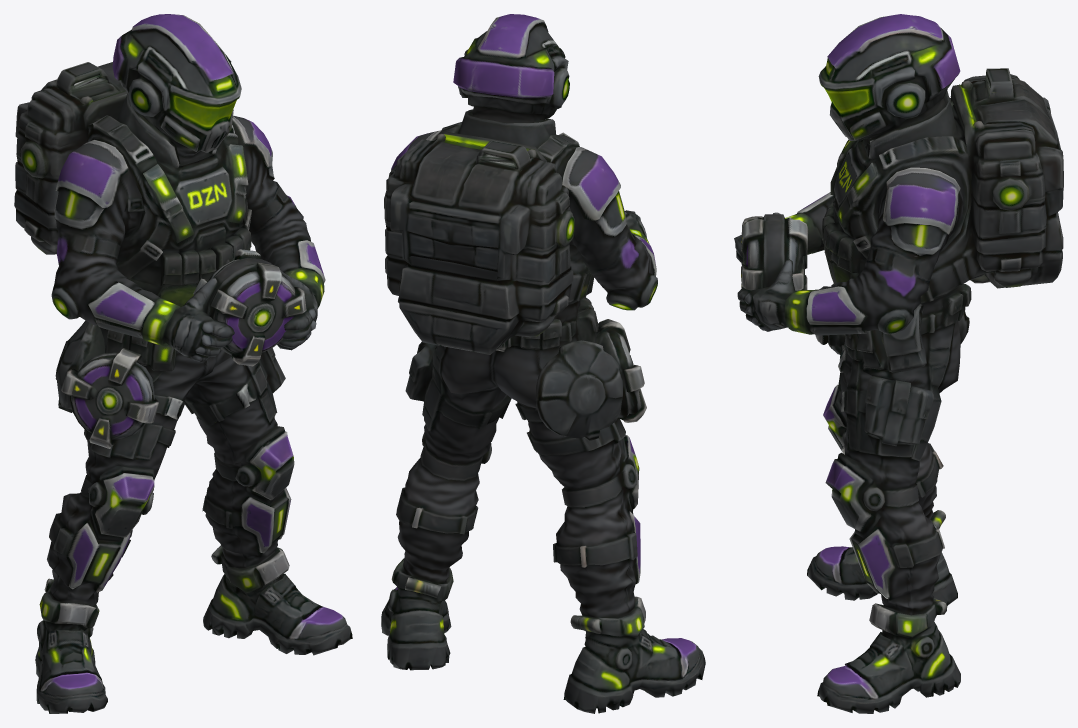
Rendered from trapper_l01-static.glb.
3 views of the same model, side by side, from view 1: azimuth 30°, elevation 25°; view 2: azimuth 150°, elevation 25°; view 3: azimuth 270°, elevation 25° (orthographic). The views are drawn at different scales.
Visible parts, largest first — view 1: geometry_0; view 2: geometry_0; view 3: geometry_0.
Boxes of the visible parts, x1,y1,x2,y2 form: geometry_0: [14, 14, 352, 713]; geometry_0: [381, 14, 705, 713]; geometry_0: [734, 14, 1063, 713].
Size of the model in its own units: 0.4702 by 0.9517 by 0.4526.
Materials: 1 (1 with a texture image).
